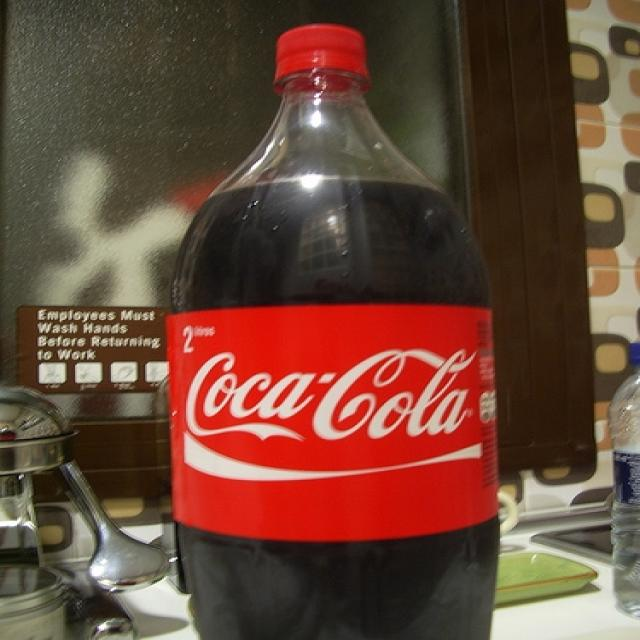cocacola: (175, 341, 487, 447)
